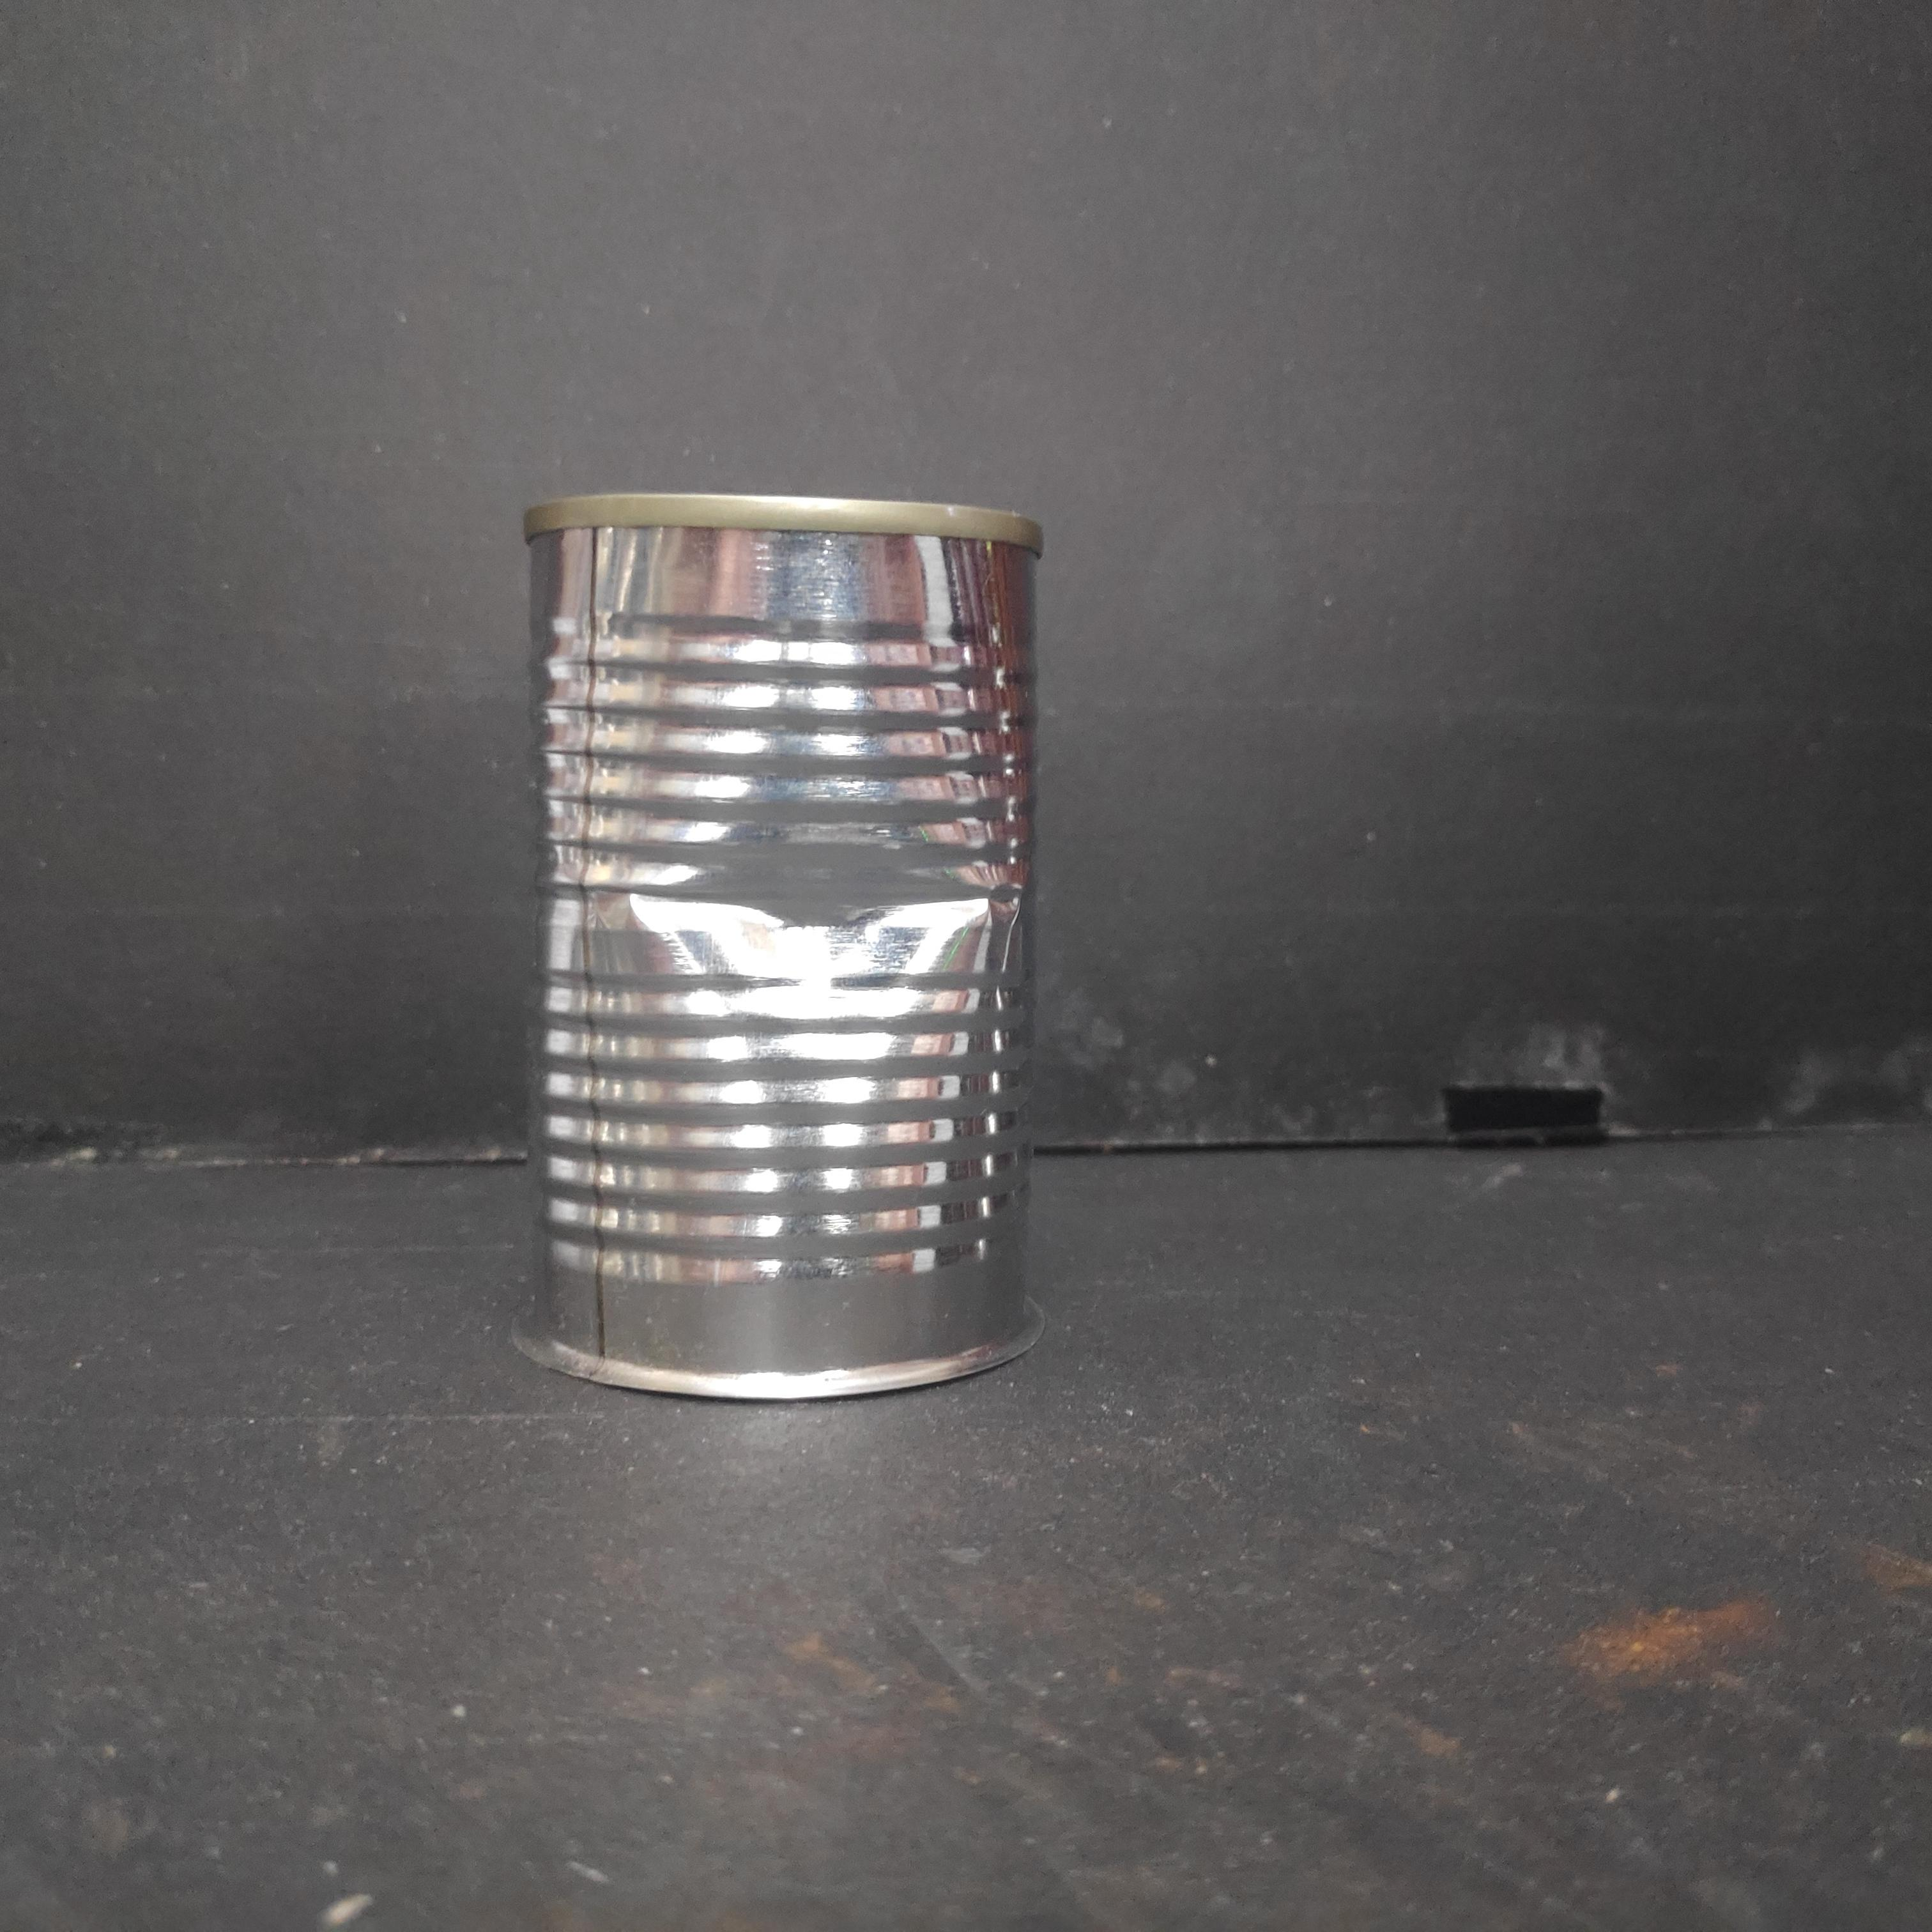Minor Defect: (503, 480, 1052, 1408)
